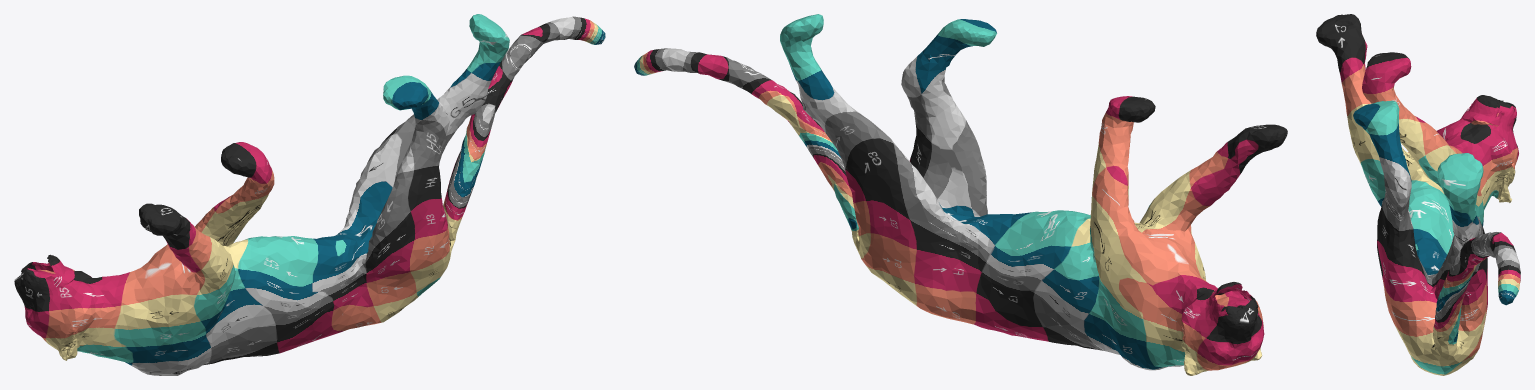
The model's file is hippo_01-cougar_02.obj.
3 renders of one model, left to right at view 1: azimuth 30°, elevation 25°; view 2: azimuth 150°, elevation 25°; view 3: azimuth 270°, elevation 25°, orthographic. The views are drawn at different scales.
Visible parts, largest first — view 1: hippo_01-cougar_02_export; view 2: hippo_01-cougar_02_export; view 3: hippo_01-cougar_02_export.
Boxes of the visible parts, bbox=[...] form: hippo_01-cougar_02_export: bbox=[14, 14, 605, 375]; hippo_01-cougar_02_export: bbox=[634, 14, 1287, 375]; hippo_01-cougar_02_export: bbox=[1316, 14, 1520, 375].
Bounding box in the file's own units: 1.32 × 0.5767 × 0.3827.
